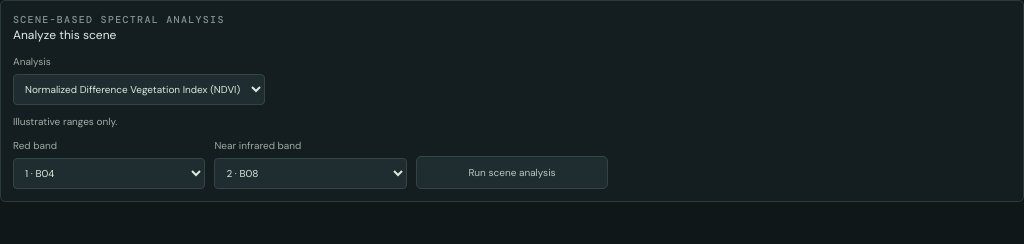
Test: SceneAnalysisPanel › displays backend processing errors without showing a fabricated result
This screenshot has width=1024, height=244.
Click the button "Run scene analysis" at (512, 172), box [416,156,608,189]
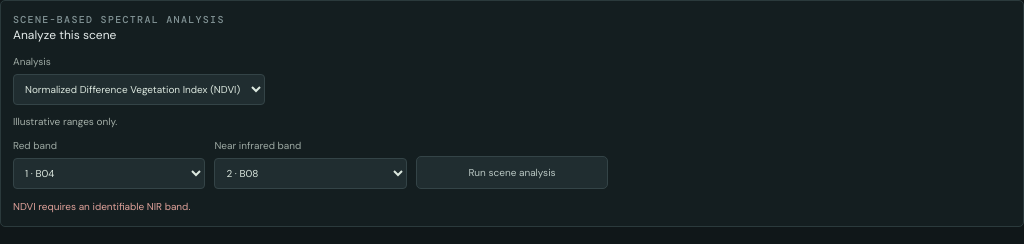
Result: the message reads "NDVI requires an identifiable NIR band." at [13,200,190,213]
